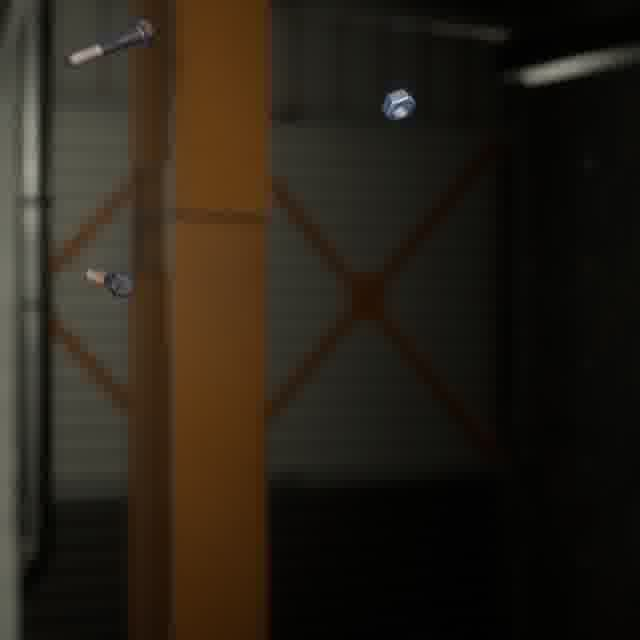bolt: (59, 15, 159, 73), (81, 263, 140, 302)
nut: (376, 85, 420, 126)
